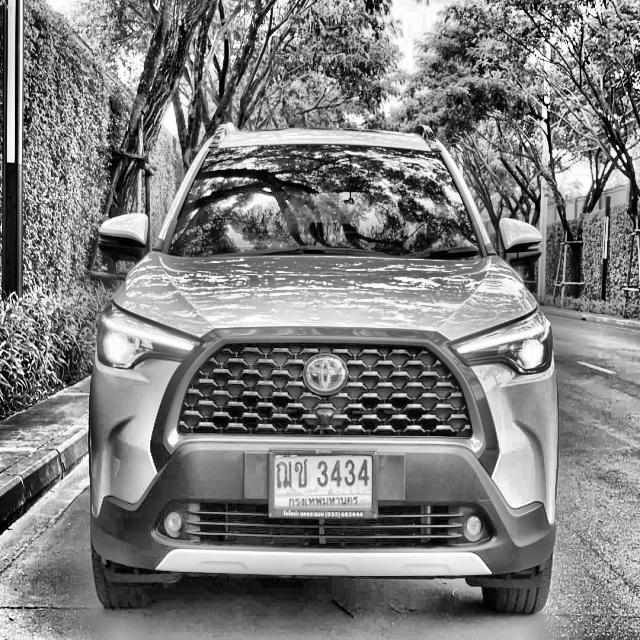license-plate: (269, 447, 377, 522)
